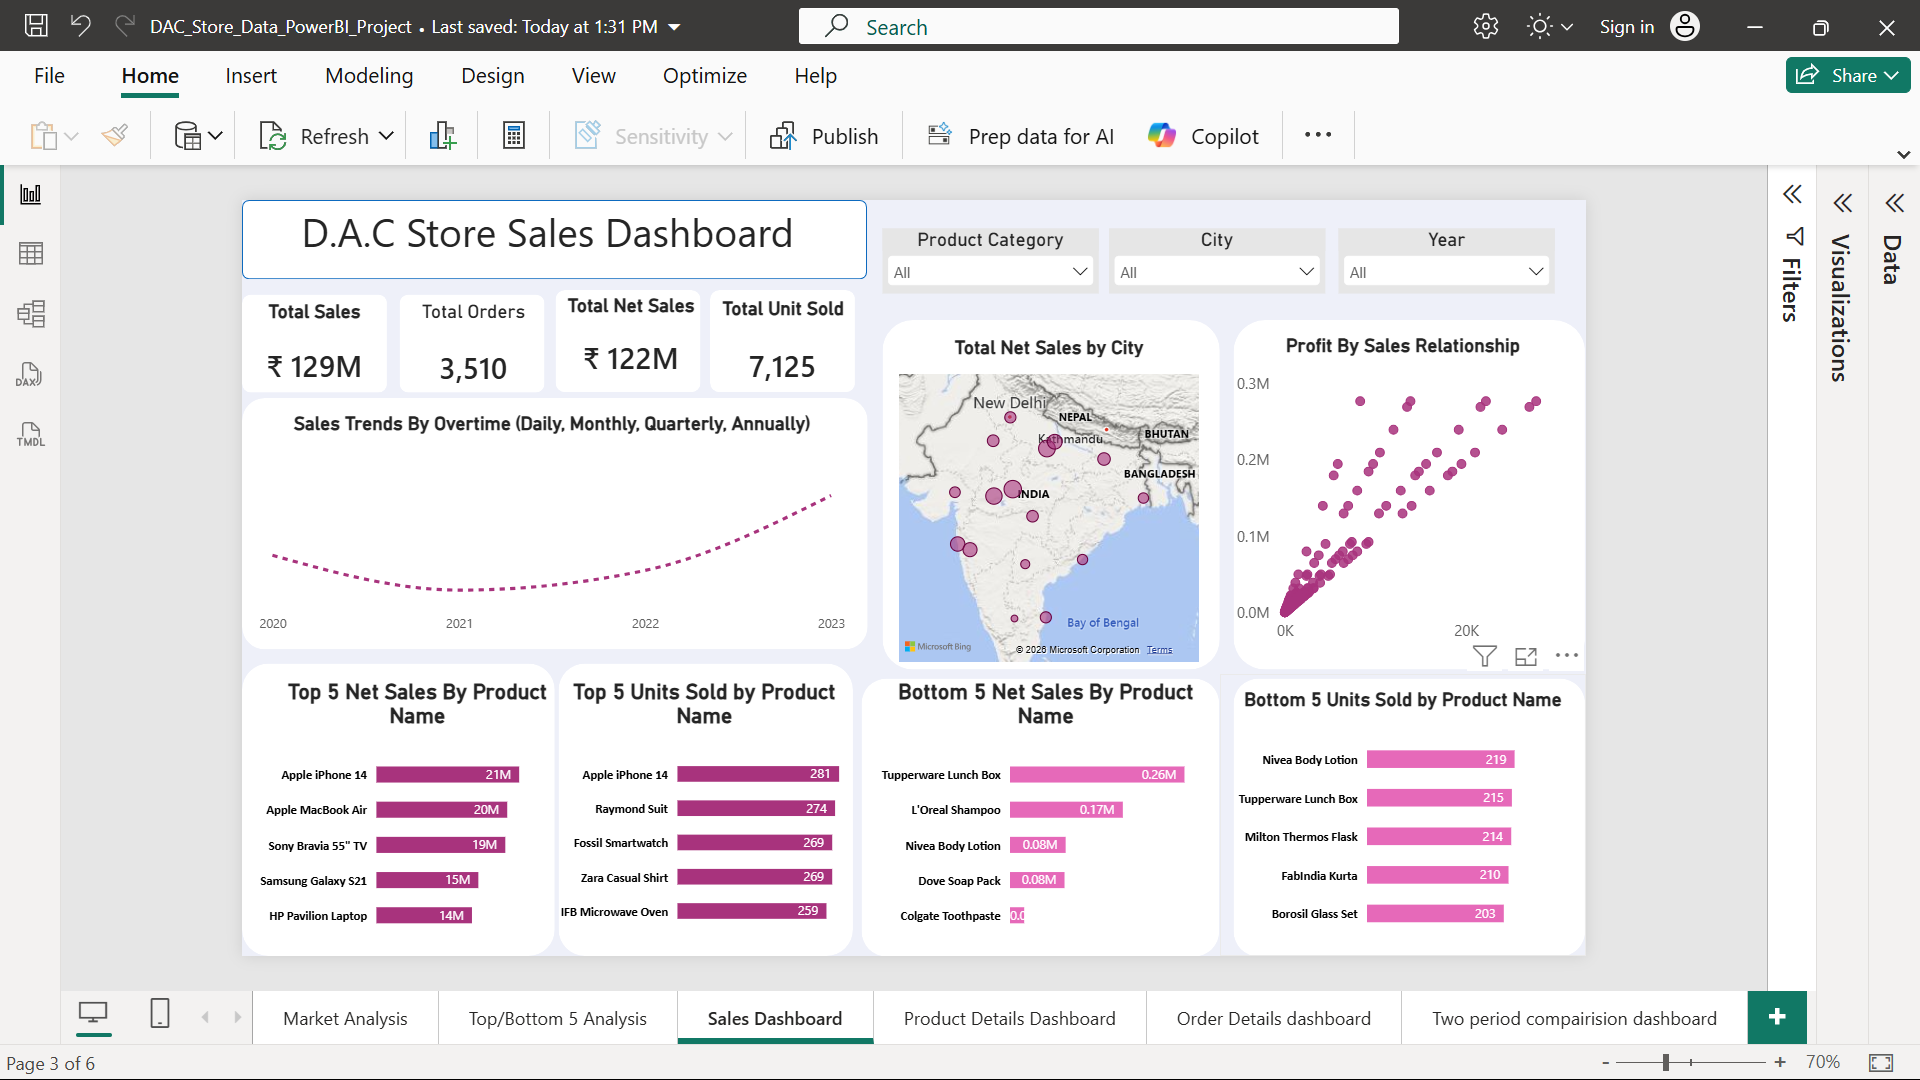

Layout of this report page (visuals, bound fields, positions):
{"tool":"powerbi","page":{"name":"Sales Dashboard","canvas":[1280,720],"ordinal":2},"visuals":[{"type":"shape","box":[0,0,595.3,75.6],"z":0},{"type":"shape","box":[0,89.6,138.3,93.5],"z":1000},{"type":"shape","box":[149.9,89.6,138.3,93.5],"z":2000},{"type":"shape","box":[297.9,85.7,138.3,97.4],"z":3000},{"type":"shape","box":[445.9,85.7,138.3,97.4],"z":4000},{"type":"shape","box":[0,188.9,595.9,239.5],"z":5000},{"type":"shape","box":[0,442,297.9,278.5],"z":6000},{"type":"shape","box":[301.8,442,280.4,278.5],"z":7000},{"type":"shape","box":[609.5,114.9,321.3,333],"z":8000},{"type":"shape","box":[944.4,114.9,334.9,333],"z":9000},{"type":"shape","box":[944.4,455.7,334.9,264.8],"z":10000},{"type":"shape","box":[590,455.7,340.8,264.8],"z":11000},{"type":"lineChart","title":"Sales Trends By Overtime (Daily, Monthly, Quarterly, Annually)","fields":{"Category":["Fact Table.Date (dd/mm/yyyy).Variation.Date Hierarchy.Year","Fact Table.Date (dd/mm/yyyy).Variation.Date Hierarchy.Quarter","Fact Table.Date (dd/mm/yyyy).Variation.Date Hierarchy.Month","Fact Table.Date (dd/mm/yyyy).Variation.Date Hierarchy.Day"],"Y":["CountNonNull(Fact Table.Total Sales)"]},"box":[0,188.9,590,253.1],"z":12000},{"type":"scatterChart","title":"Profit By Sales Relationship","fields":{"X":["Fact Table.Profit"],"Y":["Fact Table.Total Sales"]},"box":[930.8,114.9,348.6,327.1],"z":13000},{"type":"map","title":"Total Net Sales by City","fields":{"Category":["Dim Customers.City"],"Size":["Sum(Fact Table.Net Sales)"]},"box":[610.4,115.3,317.5,340.2],"z":14000},{"type":"barChart","title":"Top 5 Net Sales By Product Name","fields":{"Category":["Dim Product.Product Name"],"Y":["Sum(Fact Table.Net Sales)"]},"box":[0,441.5,334.3,278.3],"z":15000},{"type":"barChart","title":"Bottom 5 Net Sales By Product Name","fields":{"Category":["Dim Product.Product Name"],"Y":["Sum(Fact Table.Net Sales)"]},"box":[590.8,441.5,348.2,278.3],"z":16000},{"type":"barChart","title":"Top 5 Units Sold by Product Name","fields":{"Category":["Dim Product.Product Name"],"Y":["Sum(Fact Table.Units Sold)"]},"box":[286.1,441.5,309.4,273.6],"z":17000},{"type":"barChart","title":"Bottom 5 Units Sold by Product Name","fields":{"Category":["Dim Product.Product Name"],"Y":["Sum(Fact Table.Units Sold)"]},"box":[930.8,451.8,348.6,268.7],"z":18000},{"type":"cardVisual","title":"Total Orders","fields":{"Data":["CountNonNull(Fact Table.Order ID)"]},"box":[153.8,95.4,132.4,93.5],"z":19000},{"type":"cardVisual","title":"Total Net Sales","fields":{"Data":["Sum(Fact Table.Net Sales)"]},"box":[301.8,89.6,138.3,97.4],"z":20000},{"type":"cardVisual","title":"Total Unit Sold","fields":{"Data":["Sum(Fact Table.Units Sold)"]},"box":[442,93.5,148,93.5],"z":21000},{"type":"cardVisual","title":"Total Sales","fields":{"Data":["Sum(Fact Table.Total Sales)"]},"box":[0,95.4,138.3,87.6],"z":22000},{"type":"slicer","title":"Product Category","fields":{"Values":["Dim Product.Product Line"]},"box":[610.2,27.3,205.9,62.1],"z":24000},{"type":"textbox","box":[0,3.9,582.2,138.3],"z":29000},{"type":"slicer","title":"City","fields":{"Values":["Dim Customers.City"]},"box":[825.2,27.3,205.9,62.1],"z":29001},{"type":"slicer","title":"Year","fields":{"Values":["Fact Table.Date (dd/mm/yyyy).Variation.Date Hierarchy.Year"]},"box":[1044.8,27.3,205.9,62.1],"z":29002}]}

Visuals, with their boxes on the page's 1280x720 design canvas (x1, y1, x2, y2). These are canvas units, not pixel positions in the 1920x1080 screenshot, which may show the page scaled, cropped or inside an application window:
shape: select_region(0, 0, 595, 76)
shape: select_region(0, 90, 138, 183)
shape: select_region(150, 90, 288, 183)
shape: select_region(298, 86, 436, 183)
shape: select_region(446, 86, 584, 183)
shape: select_region(0, 189, 596, 428)
shape: select_region(0, 442, 298, 720)
shape: select_region(302, 442, 582, 720)
shape: select_region(610, 115, 931, 448)
shape: select_region(944, 115, 1279, 448)
shape: select_region(944, 456, 1279, 720)
shape: select_region(590, 456, 931, 720)
"Sales Trends By Overtime (Daily, Monthly, Quarterly, Annually)" lineChart: select_region(0, 189, 590, 442)
"Profit By Sales Relationship" scatterChart: select_region(931, 115, 1279, 442)
"Total Net Sales by City" map: select_region(610, 115, 928, 456)
"Top 5 Net Sales By Product Name" barChart: select_region(0, 442, 334, 720)
"Bottom 5 Net Sales By Product Name" barChart: select_region(591, 442, 939, 720)
"Top 5 Units Sold by Product Name" barChart: select_region(286, 442, 596, 715)
"Bottom 5 Units Sold by Product Name" barChart: select_region(931, 452, 1279, 720)
"Total Orders" cardVisual: select_region(154, 95, 286, 189)
"Total Net Sales" cardVisual: select_region(302, 90, 440, 187)
"Total Unit Sold" cardVisual: select_region(442, 94, 590, 187)
"Total Sales" cardVisual: select_region(0, 95, 138, 183)
"Product Category" slicer: select_region(610, 27, 816, 89)
textbox: select_region(0, 4, 582, 142)
"City" slicer: select_region(825, 27, 1031, 89)
"Year" slicer: select_region(1045, 27, 1251, 89)
